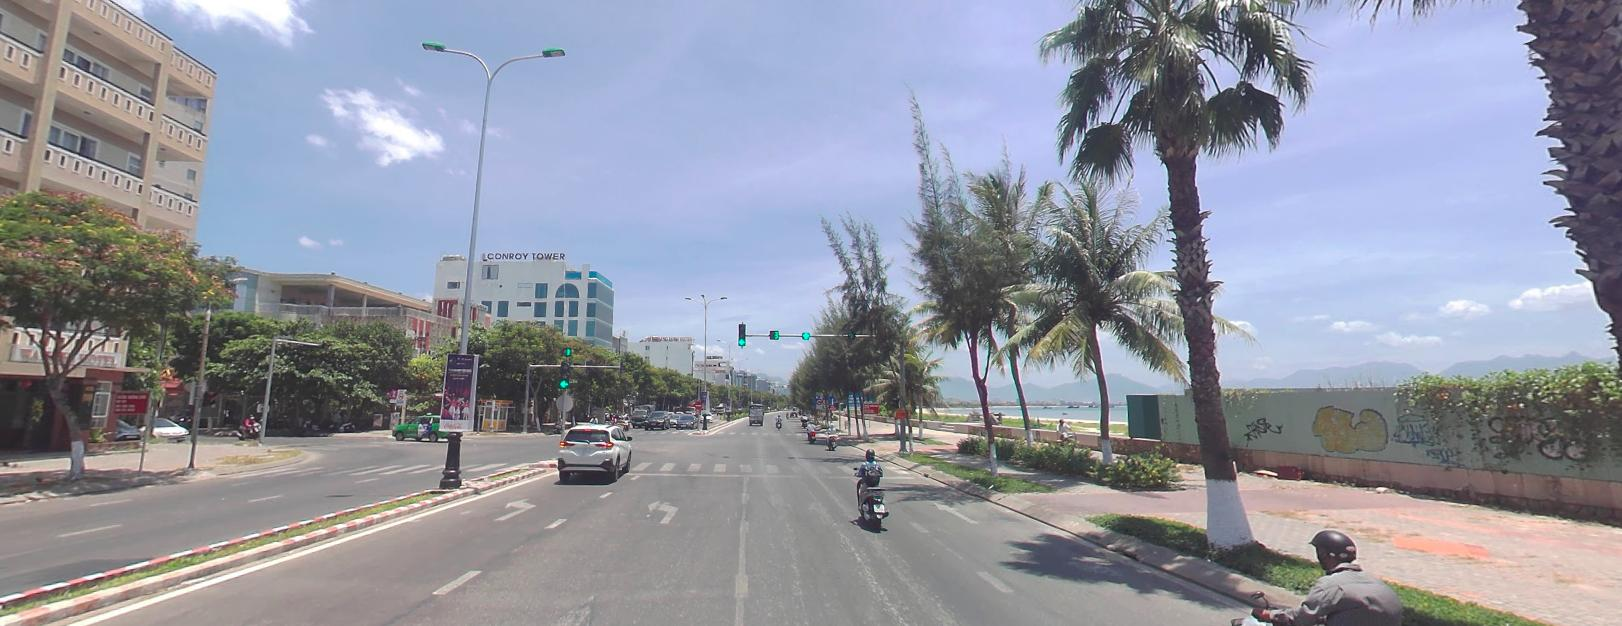Cam nguoc chieu: (694, 399, 701, 407)
Gioi han toc do: (816, 397, 822, 403)
